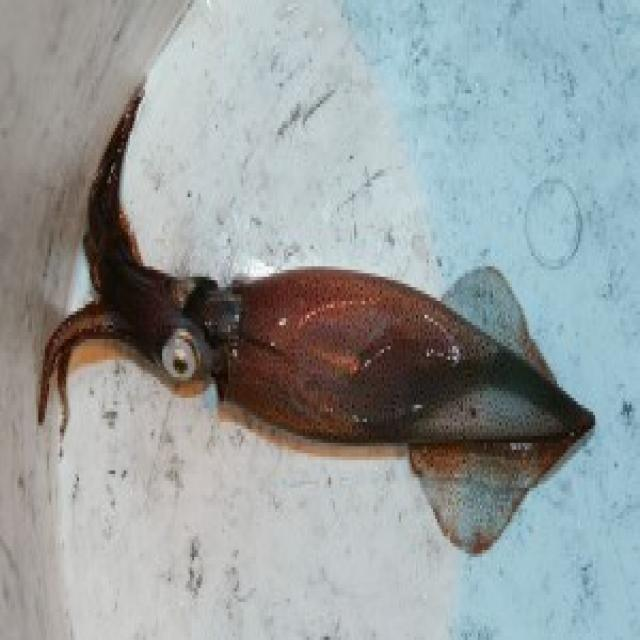SQUID: (17, 118, 640, 536), (132, 178, 133, 209), (182, 282, 183, 304)
